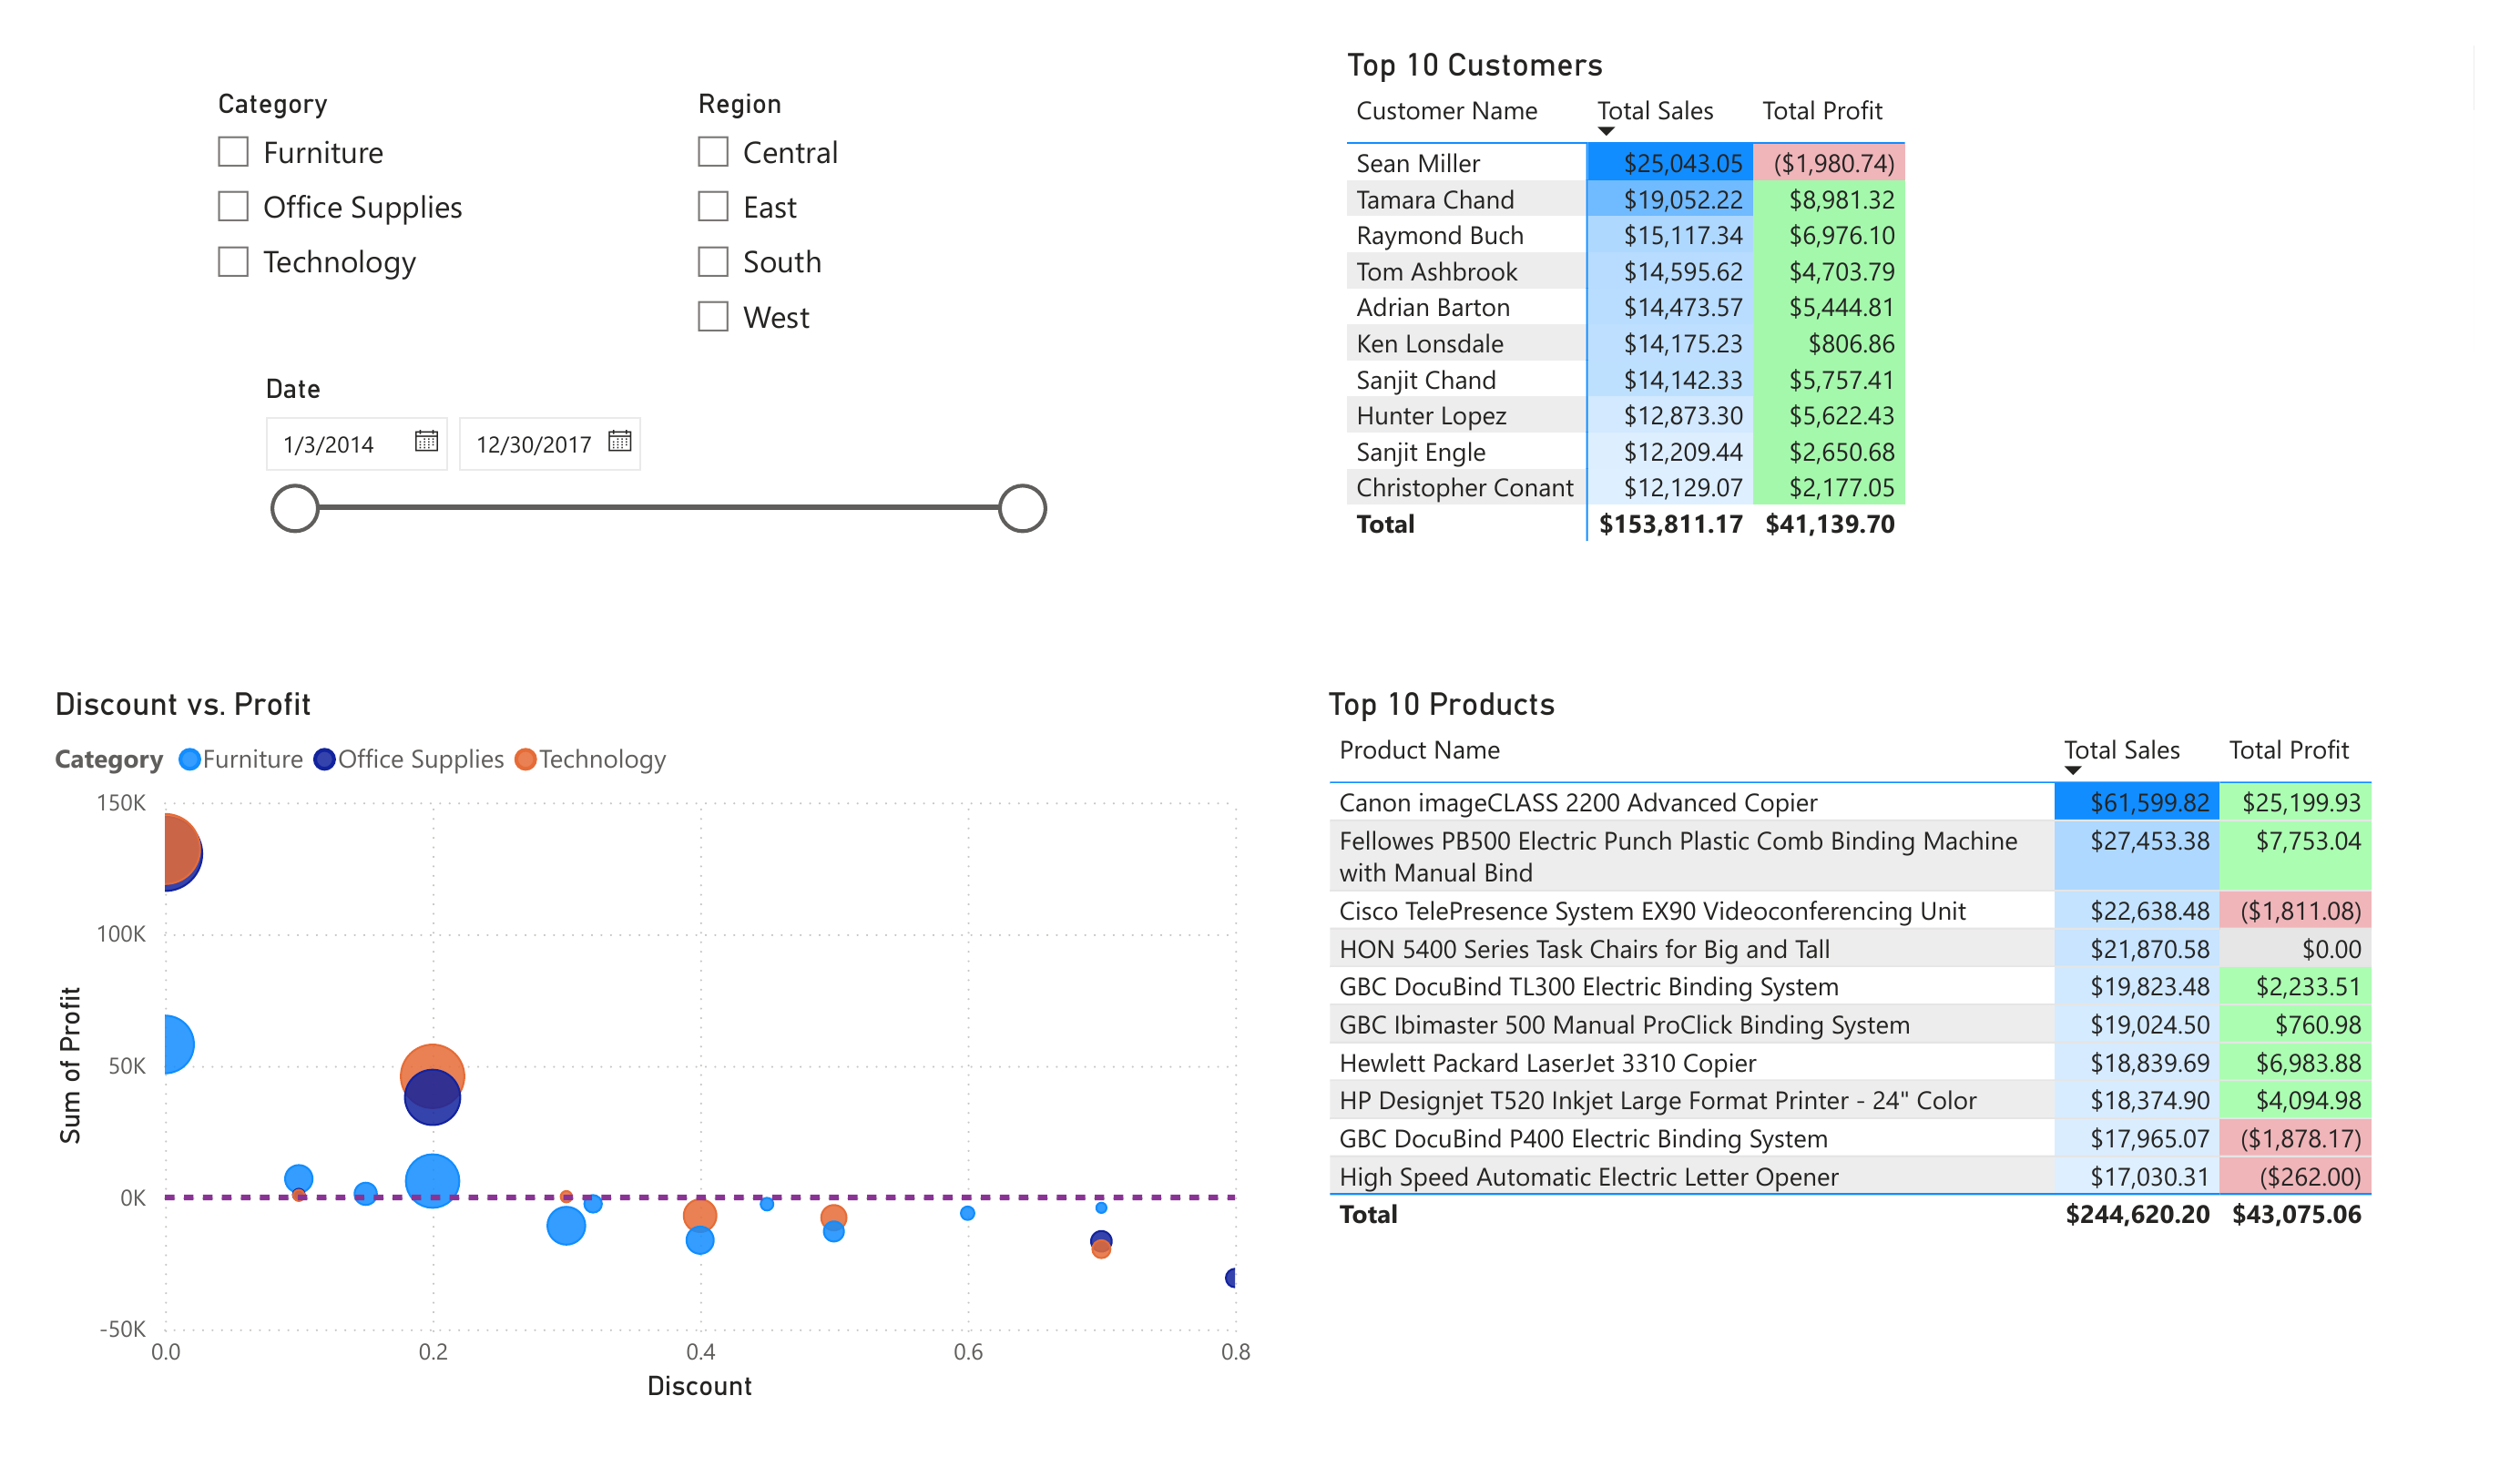

What the dashboard file says about the page in this screenshot:
{"tool":"powerbi","page":{"name":"Sales Deep Dive","canvas":[1280,720],"ordinal":1},"visuals":[{"type":"scatterChart","title":"Discount vs. Profit","fields":{"X":["Orders.Discount"],"Y":["Sum(Orders.Profit)"],"Series":["Orders.Category"],"Size":["Sum(Orders.Sales)"]},"box":[0,336.5,640,383.2],"z":0},{"type":"pivotTable","title":"Top 10 Customers","fields":{"Rows":["Orders.Customer Name"],"Values":["AllMeasures.Total Sales","AllMeasures.Total Profit"]},"box":[680.9,0,599.1,336.5],"z":1},{"type":"tableEx","title":"Top 10 Products","fields":{"Values":["Orders.Product Name","AllMeasures.Total Sales","AllMeasures.Total Profit"]},"box":[671.1,336.5,608.9,383.2],"z":2},{"type":"slicer","fields":{"Values":["Orders.Category"]},"box":[77.8,18.5,179,179],"z":3},{"type":"slicer","fields":{"Values":["Orders.Region"]},"box":[330.7,18.5,179,179],"z":4},{"type":"slicer","fields":{"Values":["Dates.Date"]},"box":[103.1,168.3,432.8,150.8],"z":5}]}

Visuals, with their boxes on the page's 1280x720 design canvas (x1, y1, x2, y2). These are canvas units, not pixel positions in the 2520x1457 screenshot, which may show the page scaled, cropped or inside an application window:
"Discount vs. Profit" scatterChart: 0:336:640:720
"Top 10 Customers" pivotTable: 681:0:1280:336
"Top 10 Products" tableEx: 671:336:1280:720
slicer - Orders.Category: 78:18:257:198
slicer - Orders.Region: 331:18:510:198
slicer - Dates.Date: 103:168:536:319
